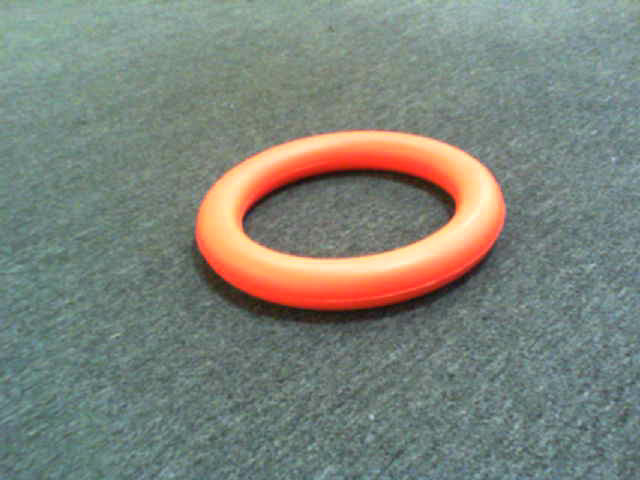Note: (197, 137, 512, 321)
